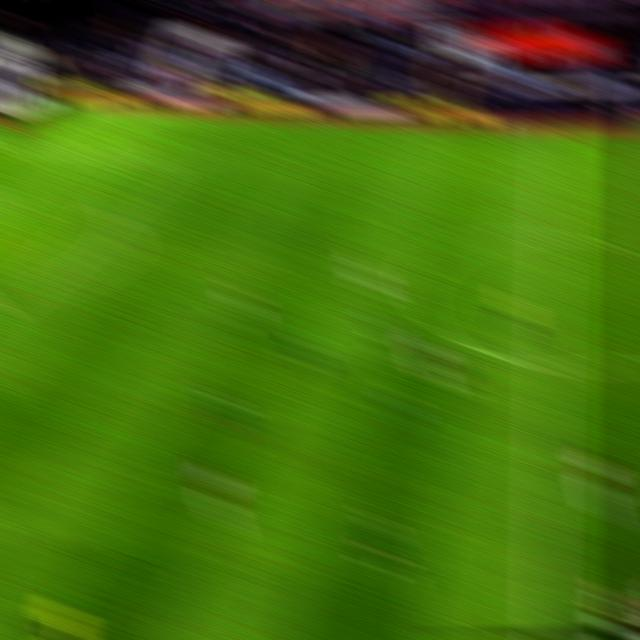bigarea_top_inner: (150, 149, 181, 170)
bigarea_top_outter: (0, 138, 21, 154)
bottom_arc_area_intersection: (1, 282, 34, 309)
corner: (60, 100, 89, 114)
halfcircle_bottom: (527, 350, 568, 383)
halfcircle_top: (536, 223, 568, 250)
midline_top_intersection: (538, 122, 569, 146)
top_arc_area_intersection: (93, 202, 124, 222)
